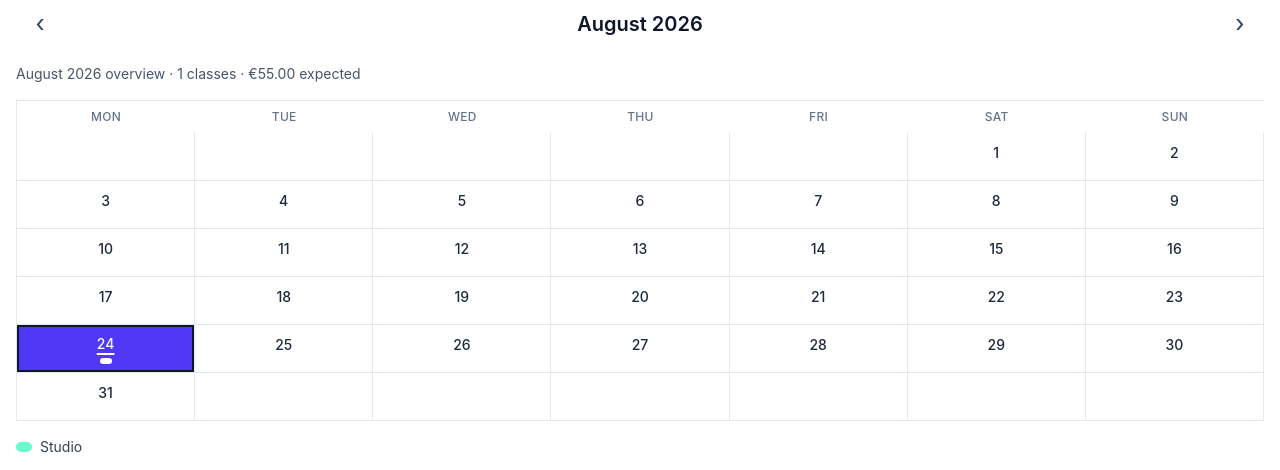
Scenario: mobile Calendar reset and responsive cleanup › resets Details to Month and traverses its two proven contiguous owned entries
Click the button "24" at (106, 349), box [17,325,195,373]
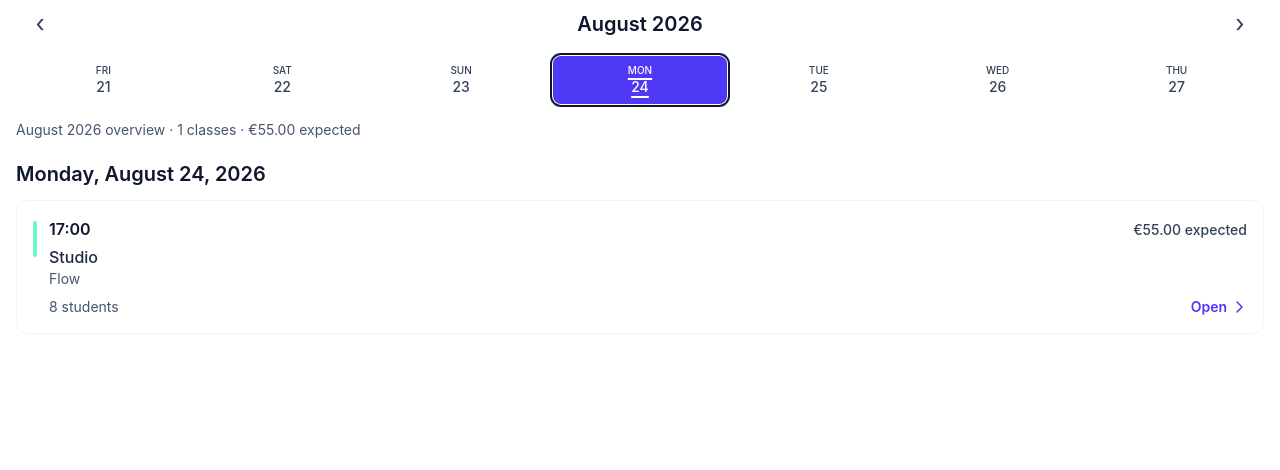
Click the button "17:00 €55.00 expected Studio Flow 8 students Open" at (640, 267), box [17,201,1263,333]
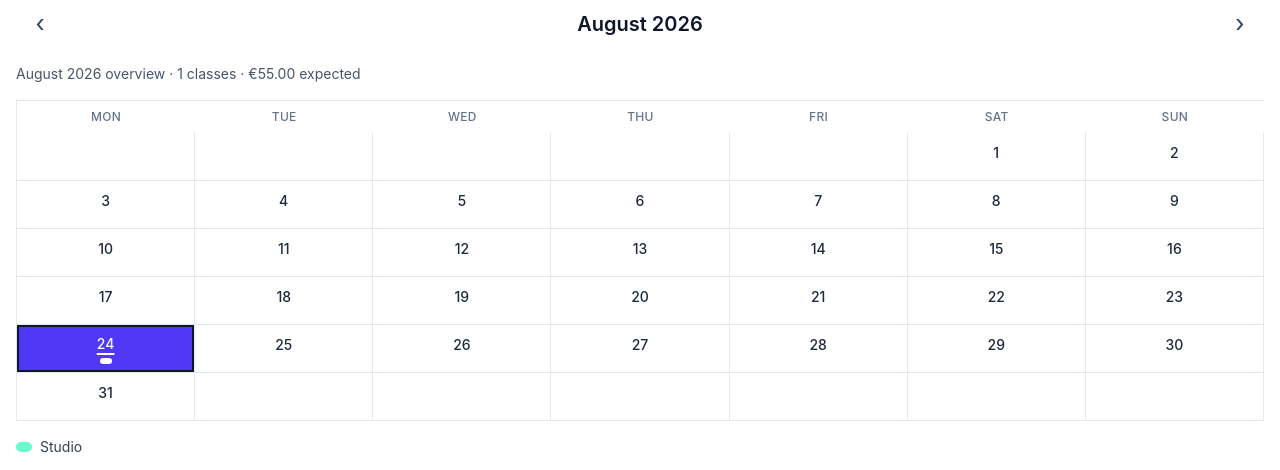
Expected: the element named "Month calendar" is shown
